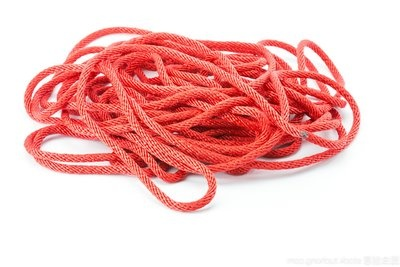9/可回收垃圾/绳子: (22, 26, 361, 212)
